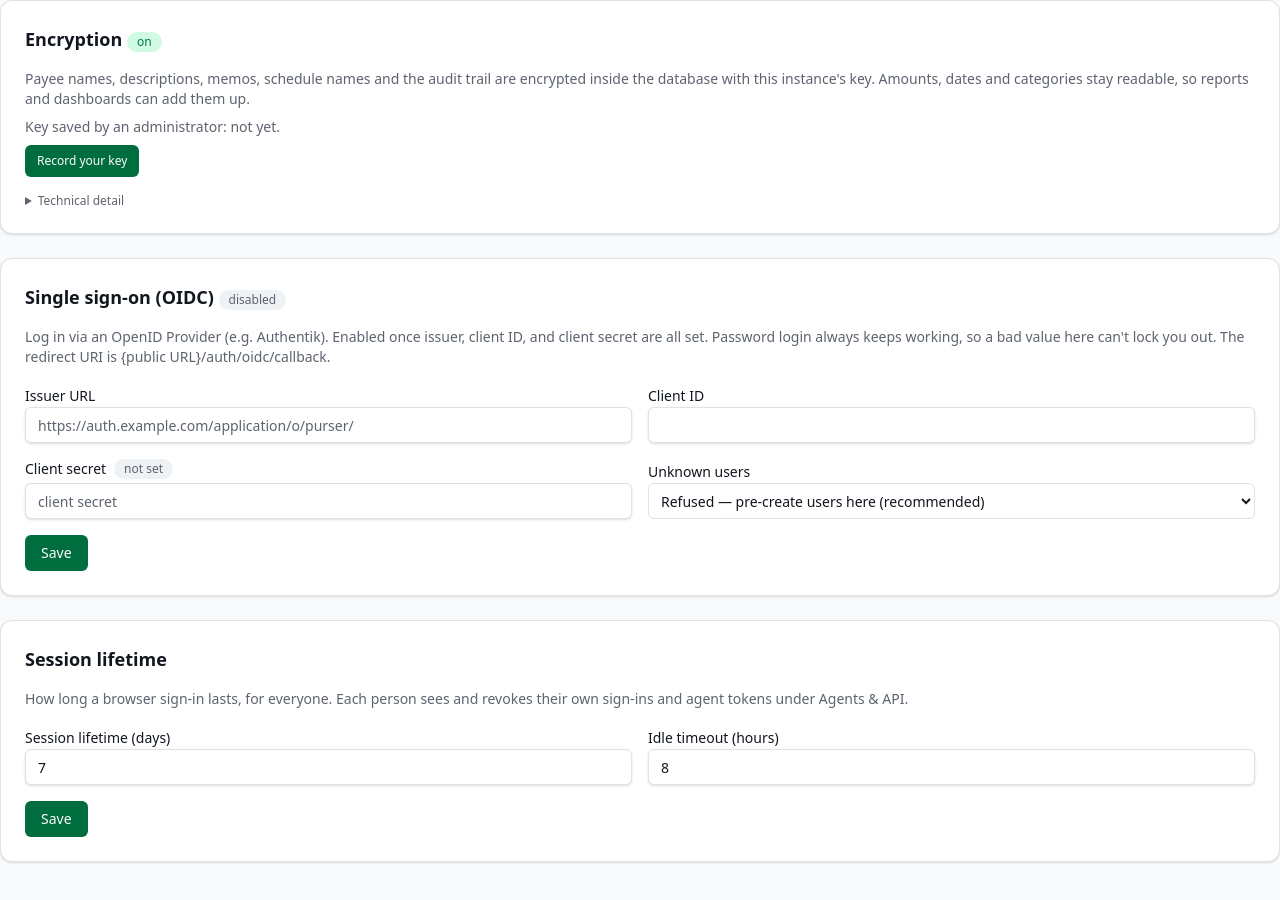
Test case: Settings, Security: record the encryption key after setup (#539) › shows the key, acknowledges it and drops it
The image size is (1280, 900).
Click the button "Record your key" at [82, 161], box [25,145,139,177]
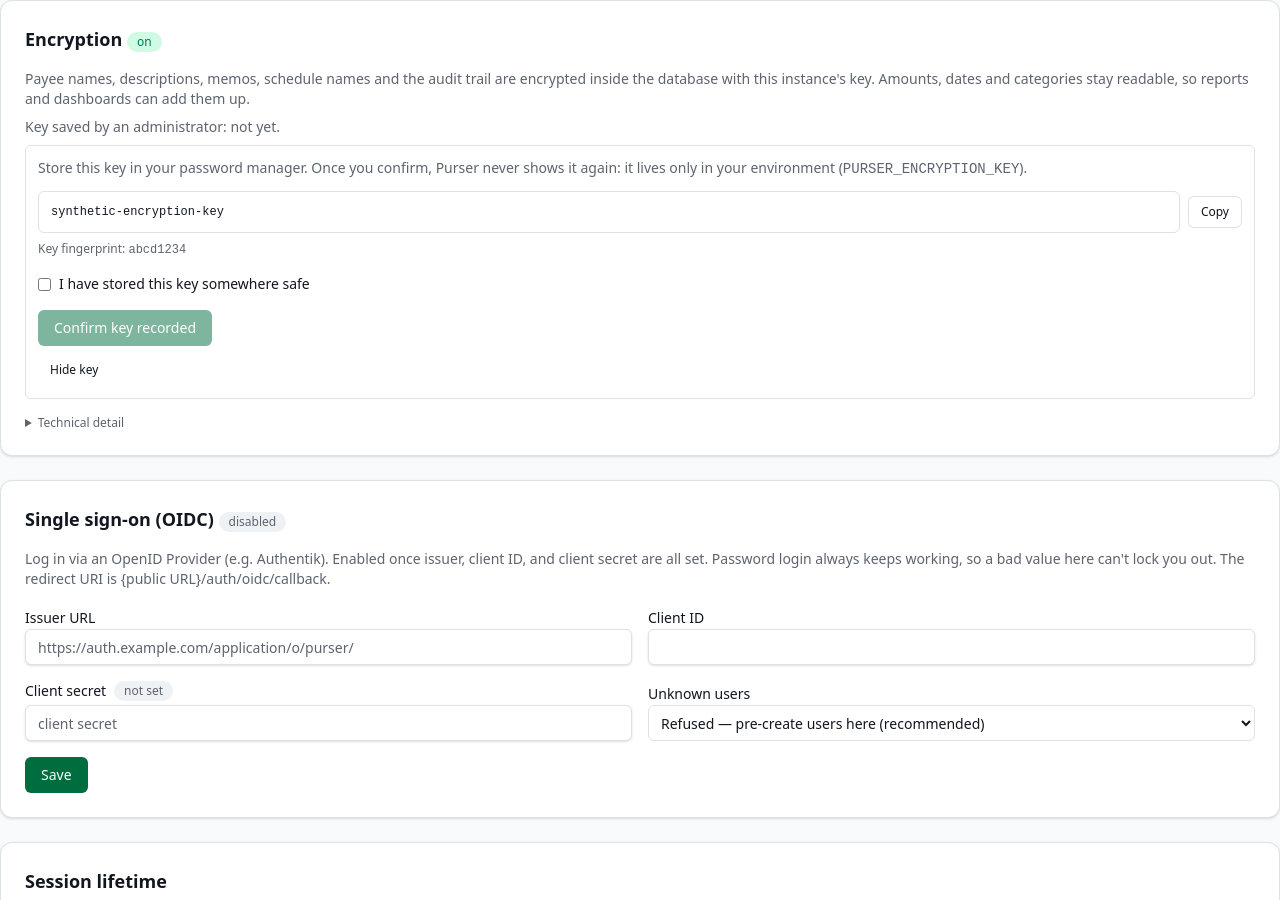
Result: the text "synthetic-encryption-key" is shown at [38,191,1180,233]
Result: the button "Confirm key recorded" is disabled at [38,310,212,346]
Click the checkbox labelled "I have stored this key somewhere safe" at [44, 284], box [38,278,51,290]
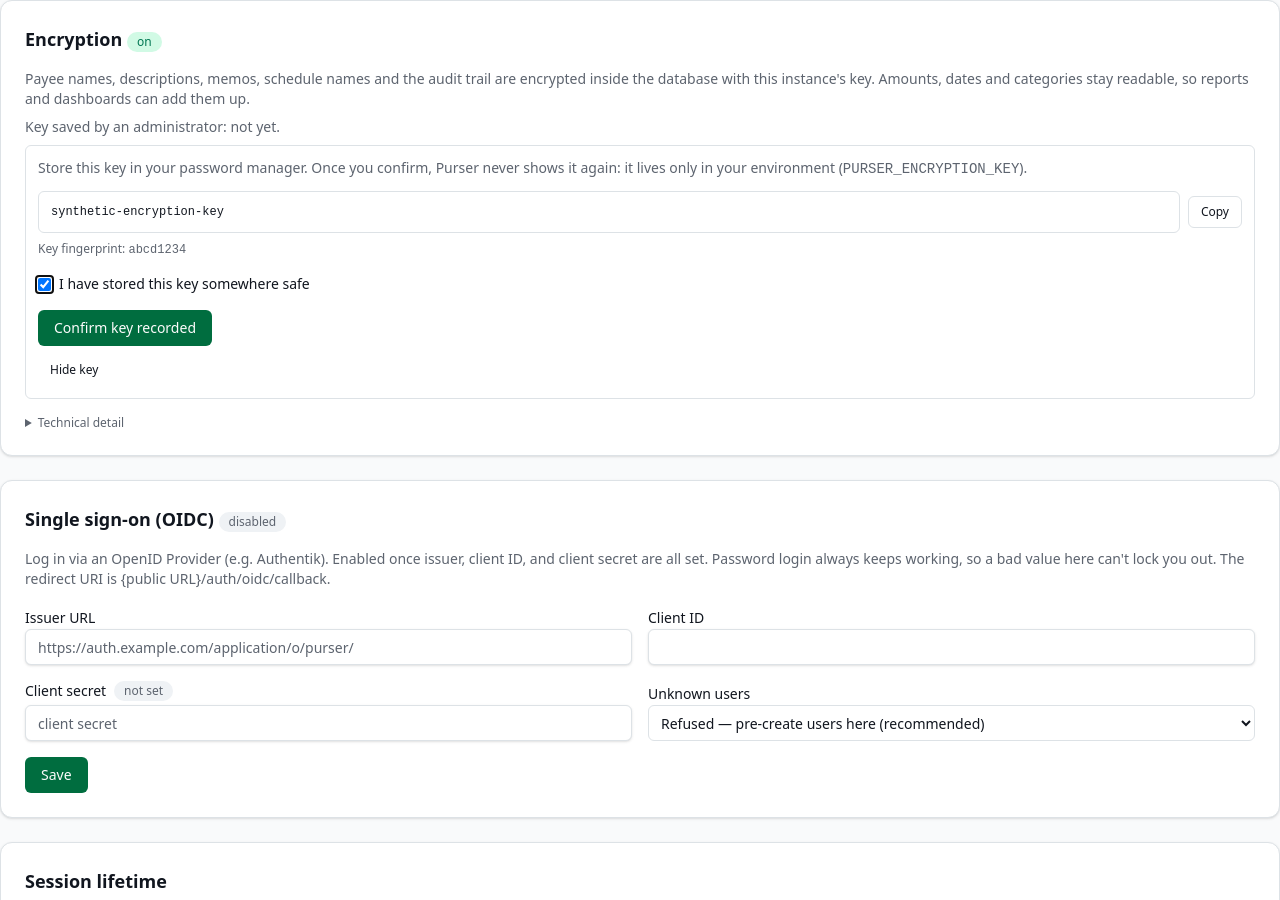
Click the button "Confirm key recorded" at [125, 328], box [38,310,212,346]
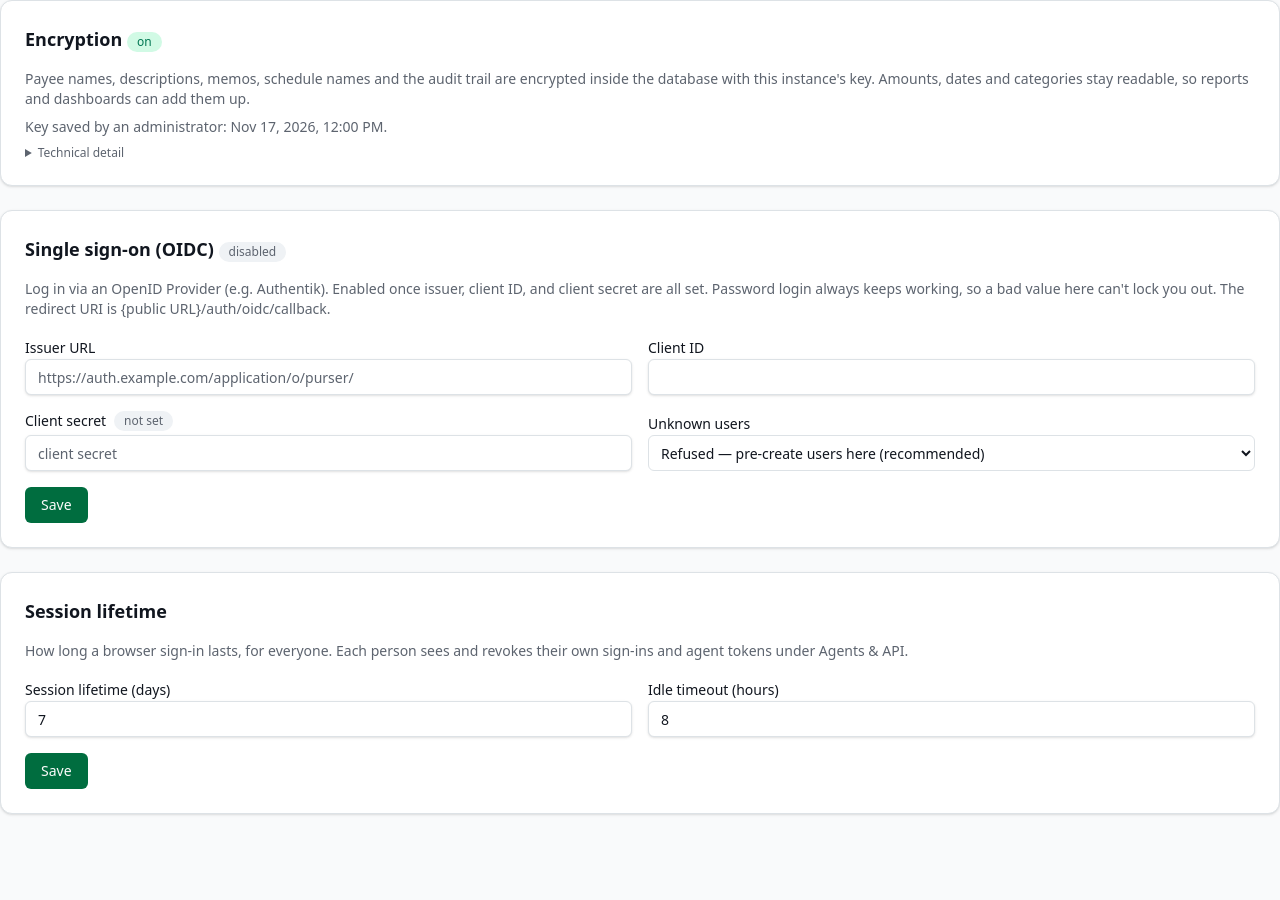
Expected: the button "Record your key" is not shown
Result: the text "synthetic-encryption-key" is gone
Result: the text "Key saved by an administrator: Nov 17, 2026, 12:00 PM." is shown at [25,117,387,136]
